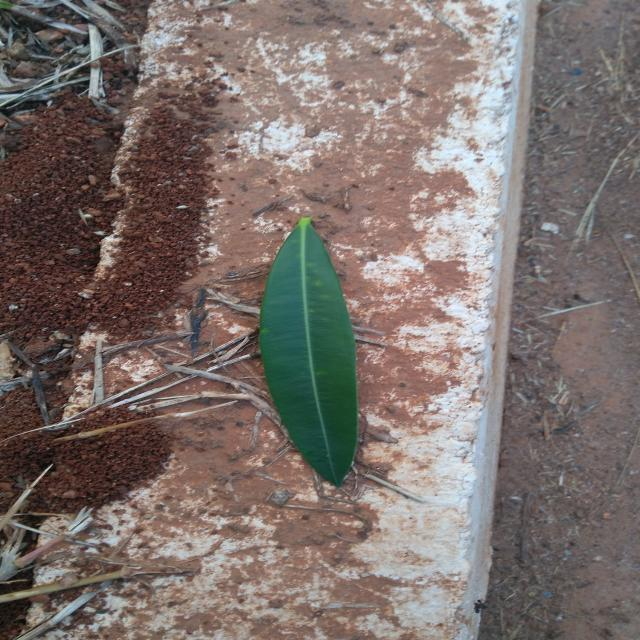ganigale: (260, 218, 358, 486)
